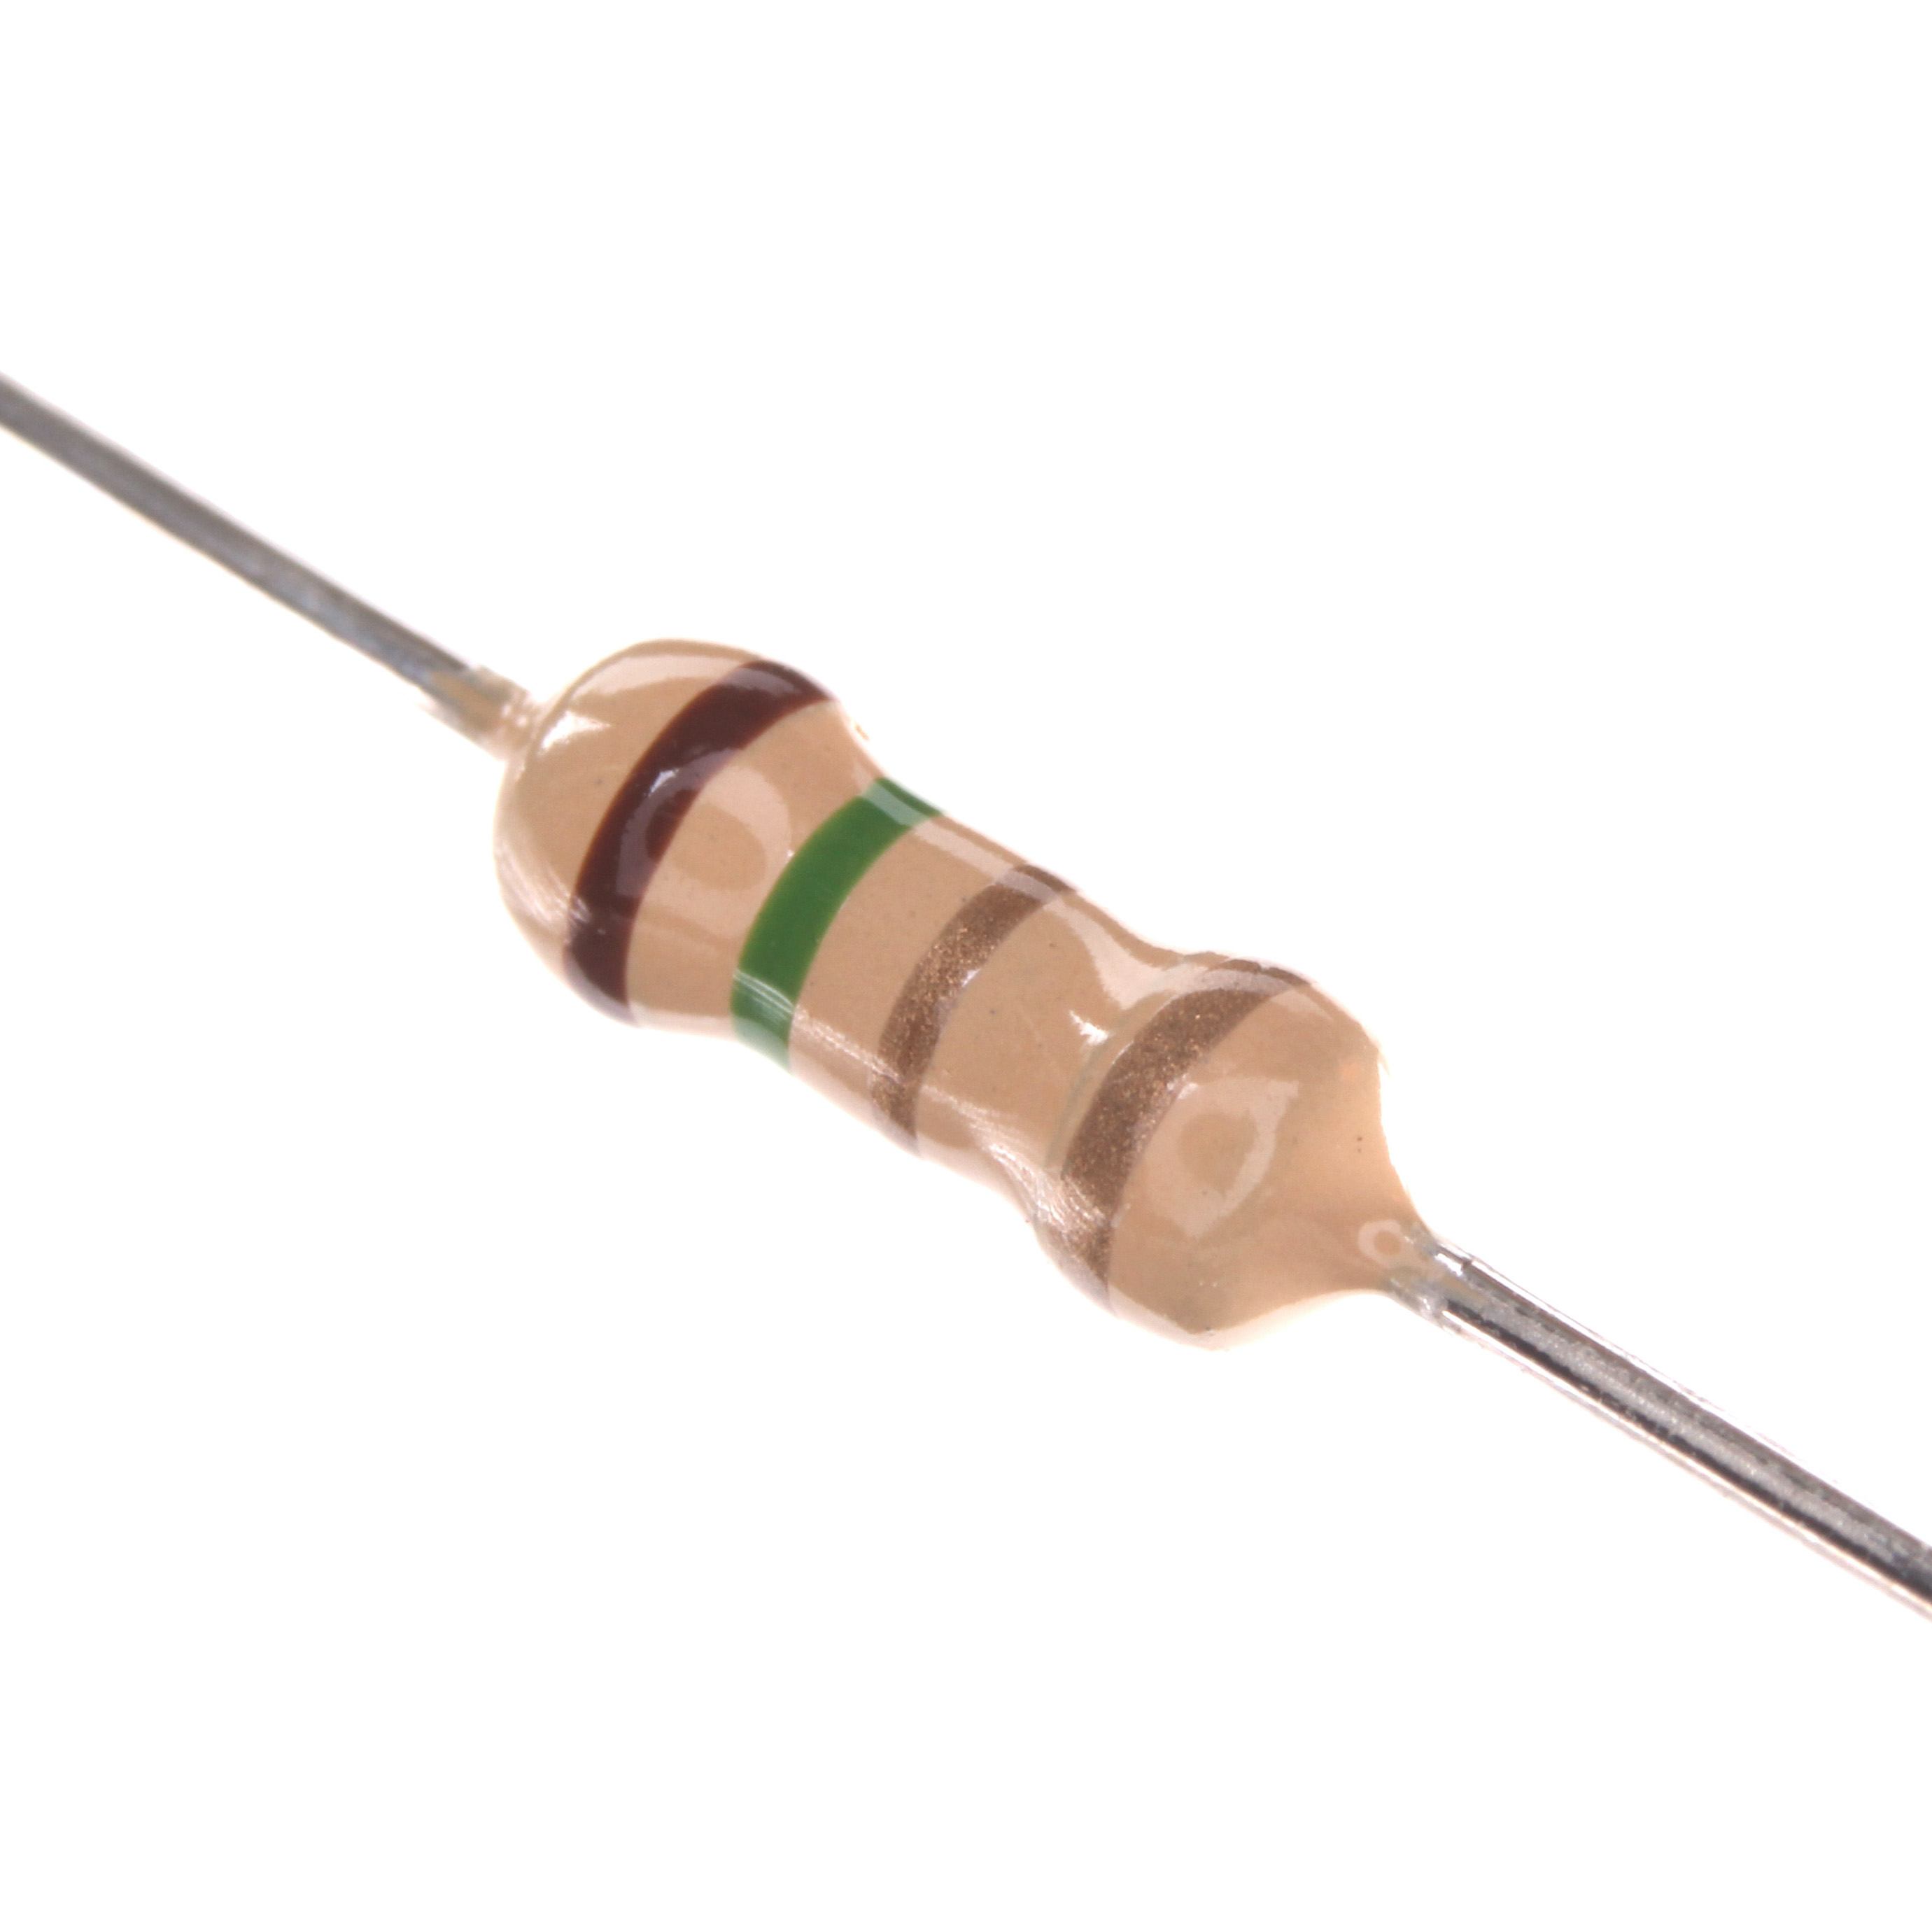Resistor: (488, 638, 1388, 1357)
